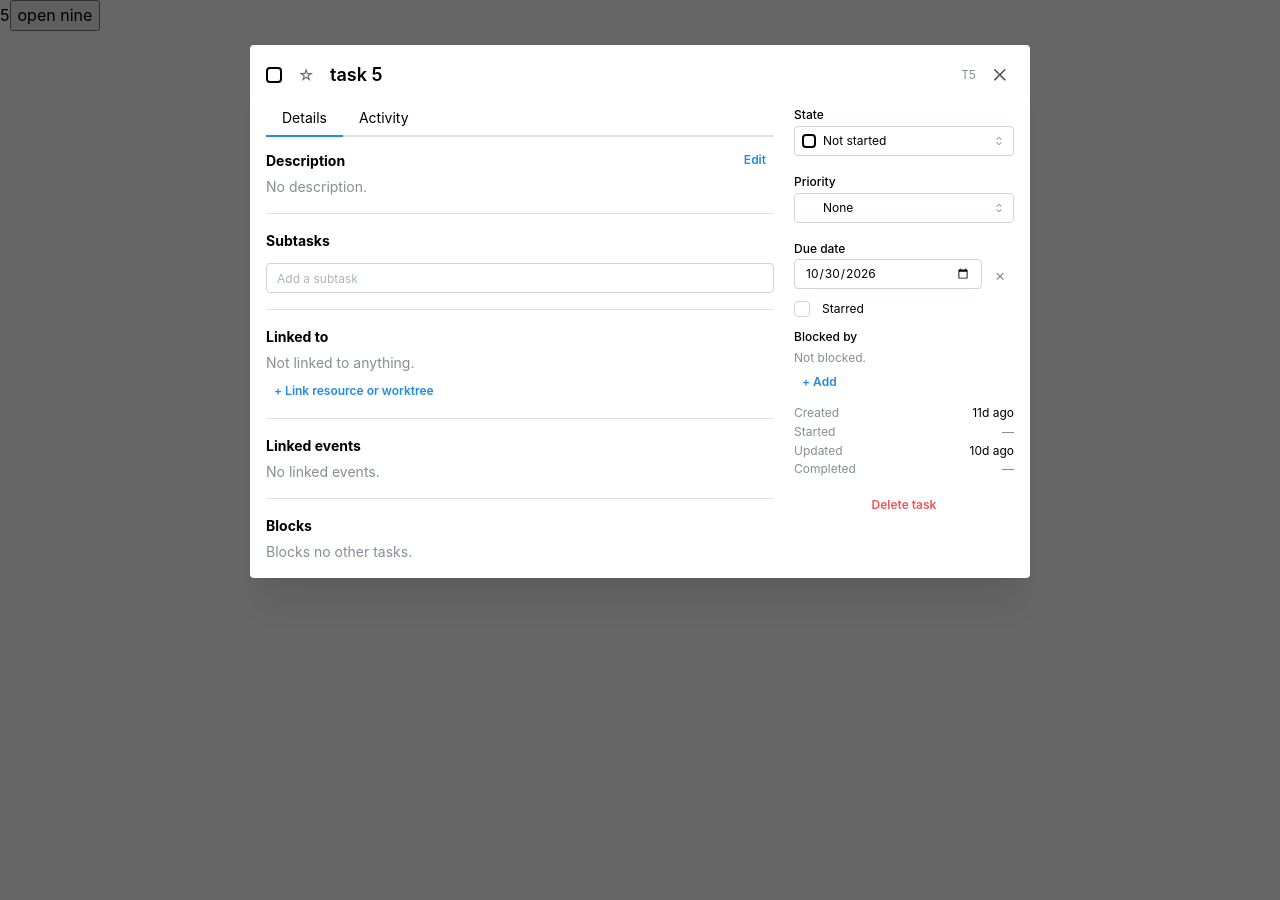
Test case: TaskDetailModal › saves the due date on change, and clearing it sends an empty due
Type "2026-11-01" into the date field labelled "Due date" at (888, 274), box [794,259,982,289]
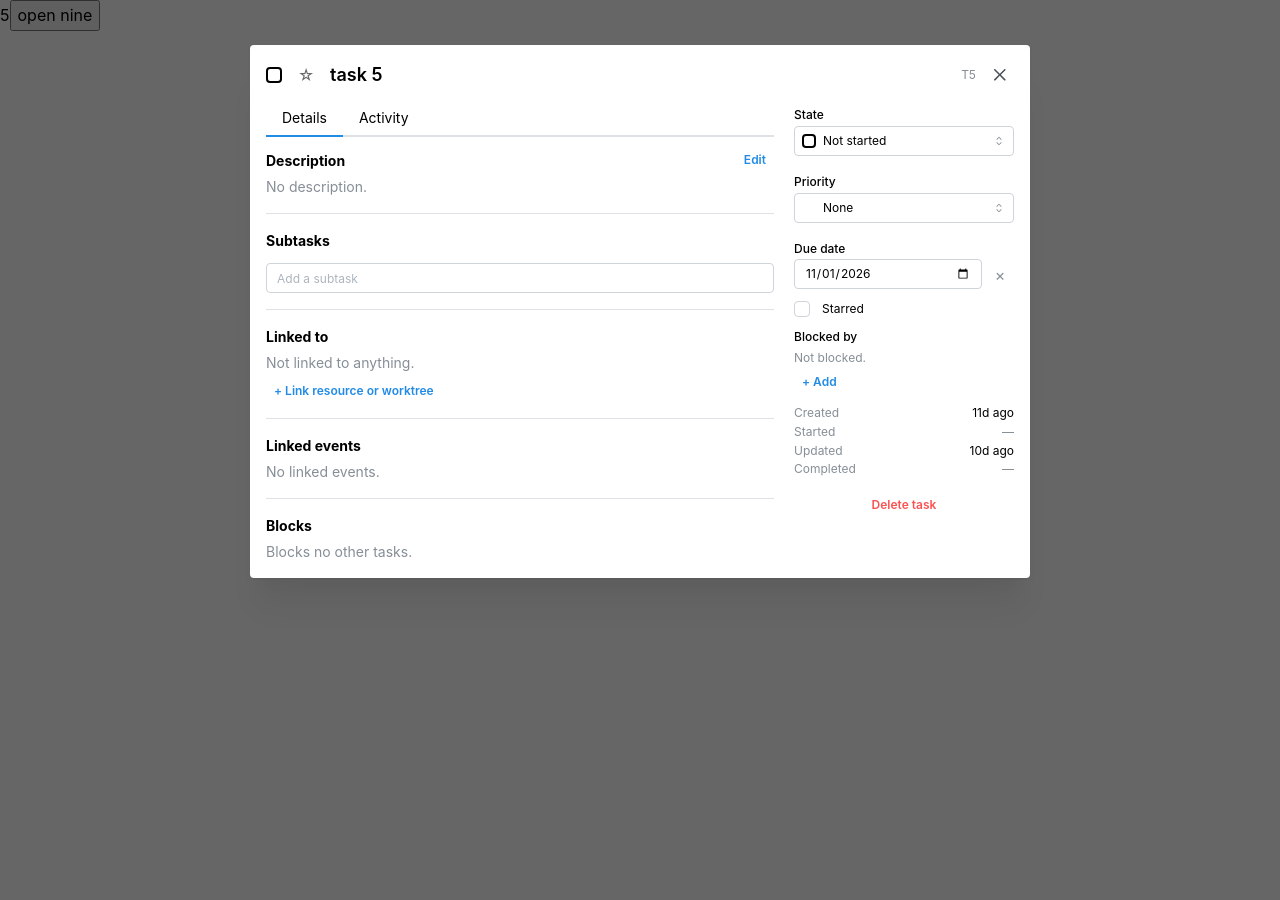
Click the button named "Clear due date" at (1000, 275), box [986,261,1014,289]
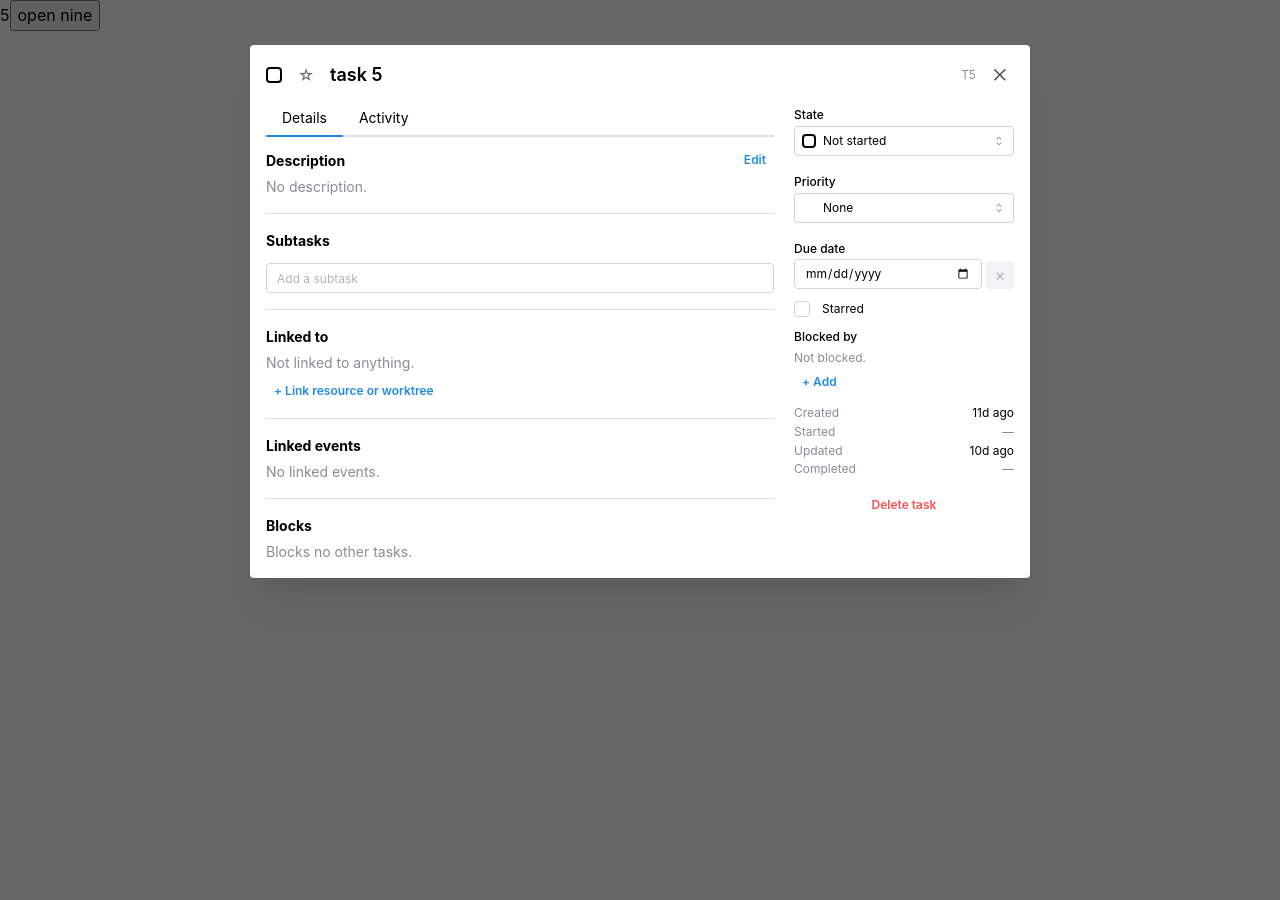
Now the date field labelled "Due date" is empty, box [794,259,982,289]
